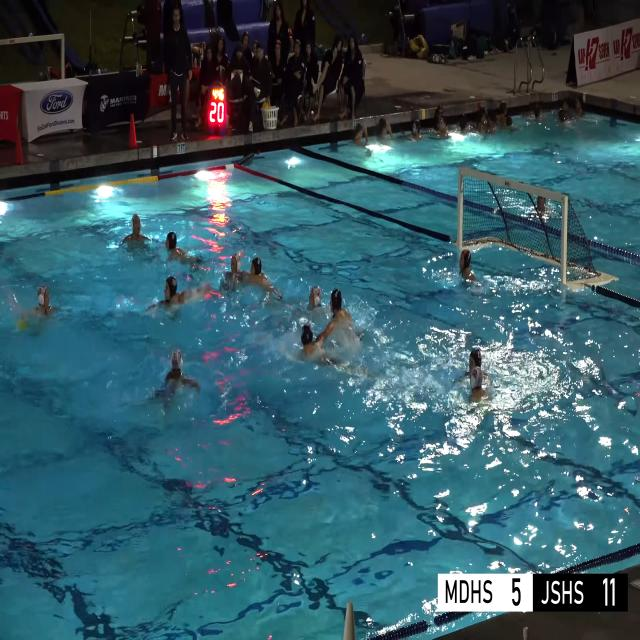ball: (16, 320, 27, 330), (262, 102, 270, 109)
